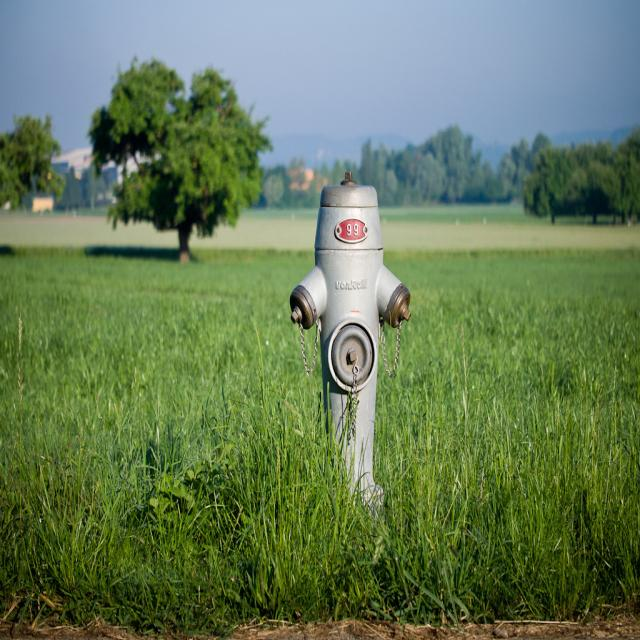fire_hydrant: (289, 171, 412, 493)
